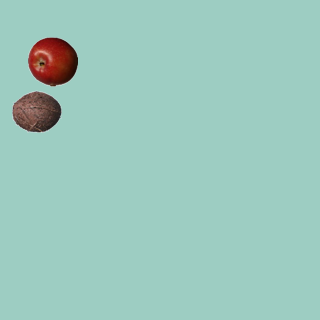Apple Braeburn: (27, 36, 77, 86)
Cocos: (11, 86, 61, 136)
